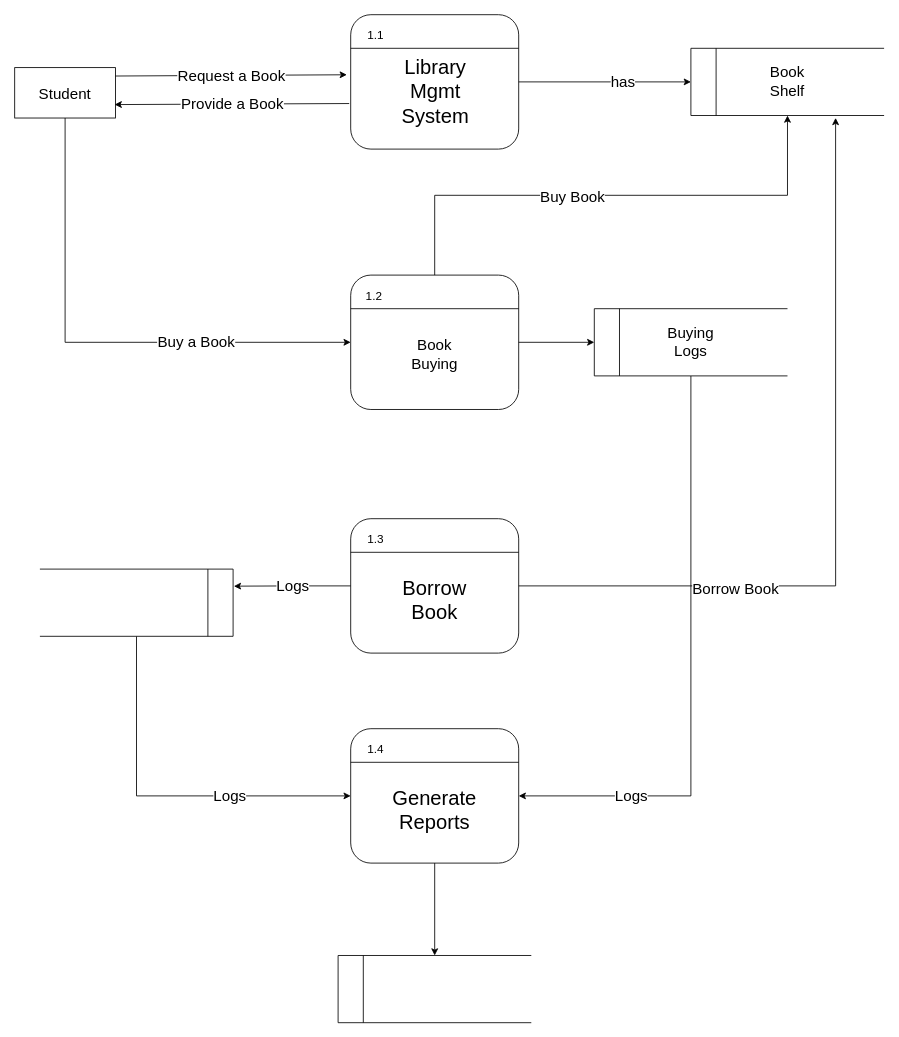
Some shapes in this 899 by 1037 pixel diagram are drawn without their labels. The shapes that lost their labels are listed below. From the top down, each one's box as (x1, y1, x2, y2) in pixels, then its label:
(39, 568, 233, 636): Borrow Logs
(337, 955, 531, 1023): Reports Inventory
